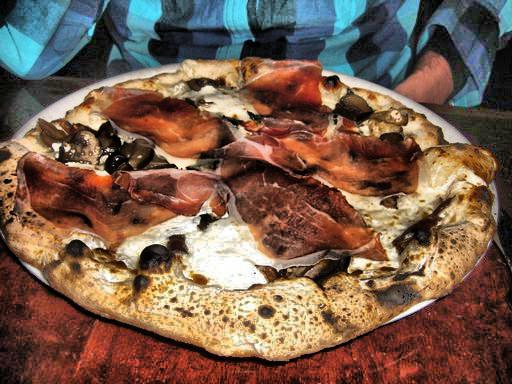pizza: (2, 60, 492, 352)
